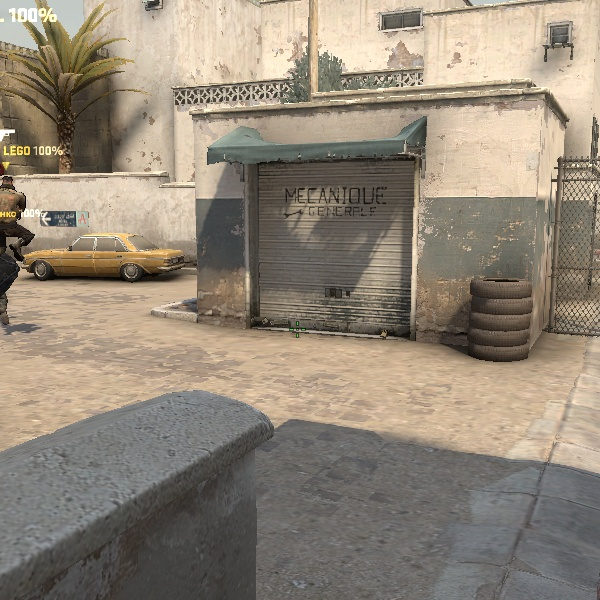t_body: (1, 175, 30, 262)
t_head: (1, 176, 14, 188)
